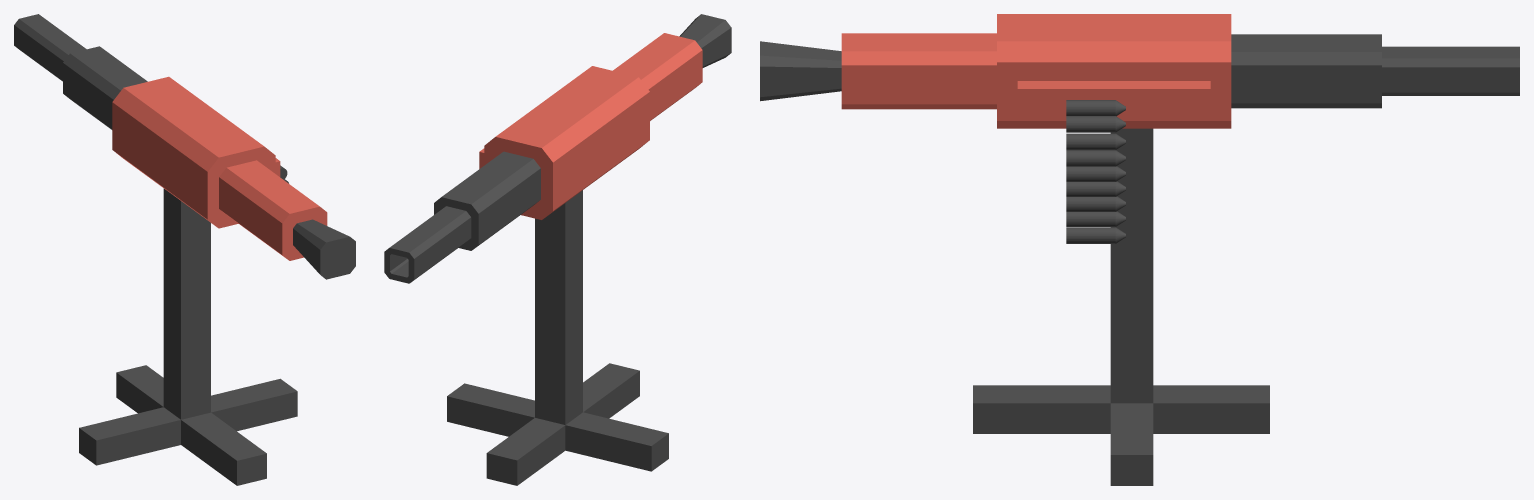
The model's file is PULEMET.fbx.
The picture shows the model from 3 angles, left to right: view 1: azimuth 30°, elevation 25°; view 2: azimuth 150°, elevation 25°; view 3: azimuth 270°, elevation 25°; orthographic projection. The views are drawn at different scales.
Parts seen in each view (by area): view 1: Cube; view 2: Cube; view 3: Cube.
Part boxes in pixels (left/top/right/bottom): Cube: left=14, top=14, right=355, bottom=485; Cube: left=384, top=14, right=731, bottom=485; Cube: left=760, top=14, right=1519, bottom=485.
Size of the model in its own units: 594 by 911 by 1580.
